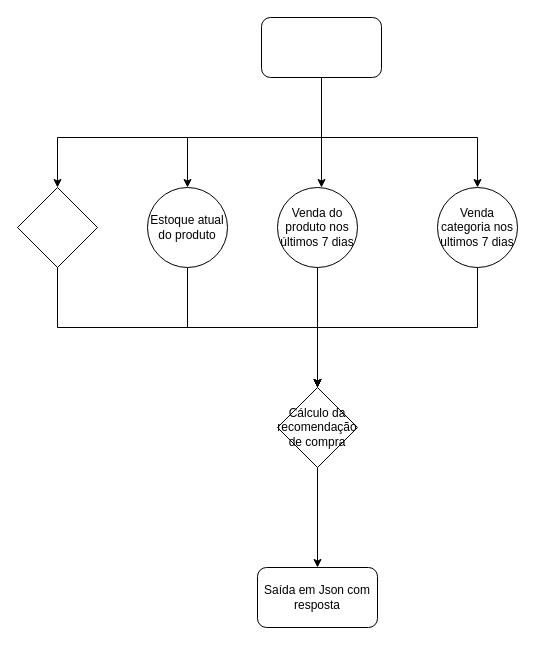
Image size: 535x645. Some labels were removed from this diagram. Here are the shapes that lost their labels. From the top down, the centre of each, then its label:
(x=321, y=47): requisição da predição produto/categoria
(x=57, y=227): Previsão categoria para 7 dias
